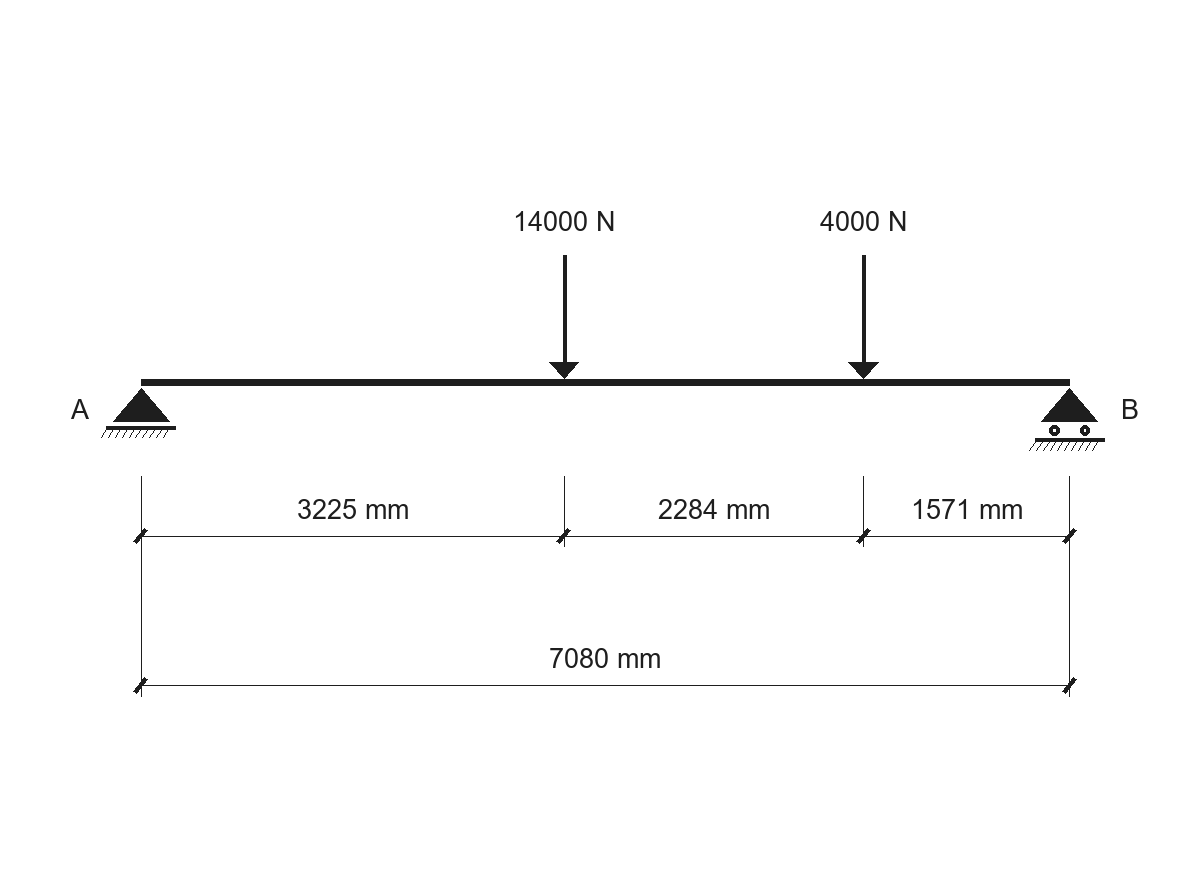pin_support: (101, 388, 176, 438)
point_load: (848, 255, 879, 379), (549, 255, 579, 379)
roller_support: (1029, 388, 1105, 451)
